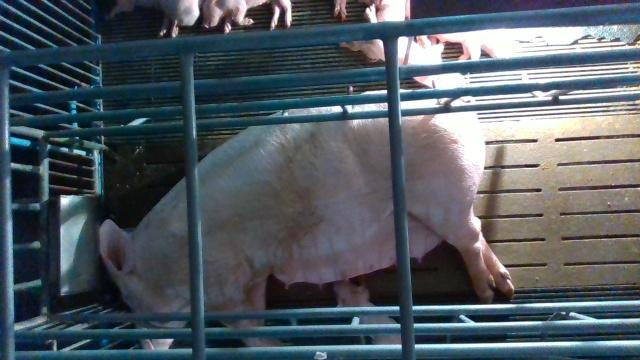piglet: (341, 4, 443, 87), (333, 278, 402, 345), (202, 0, 293, 34), (430, 30, 516, 61), (155, 0, 203, 38)
sow-sleep-lactate: (100, 89, 515, 349)
